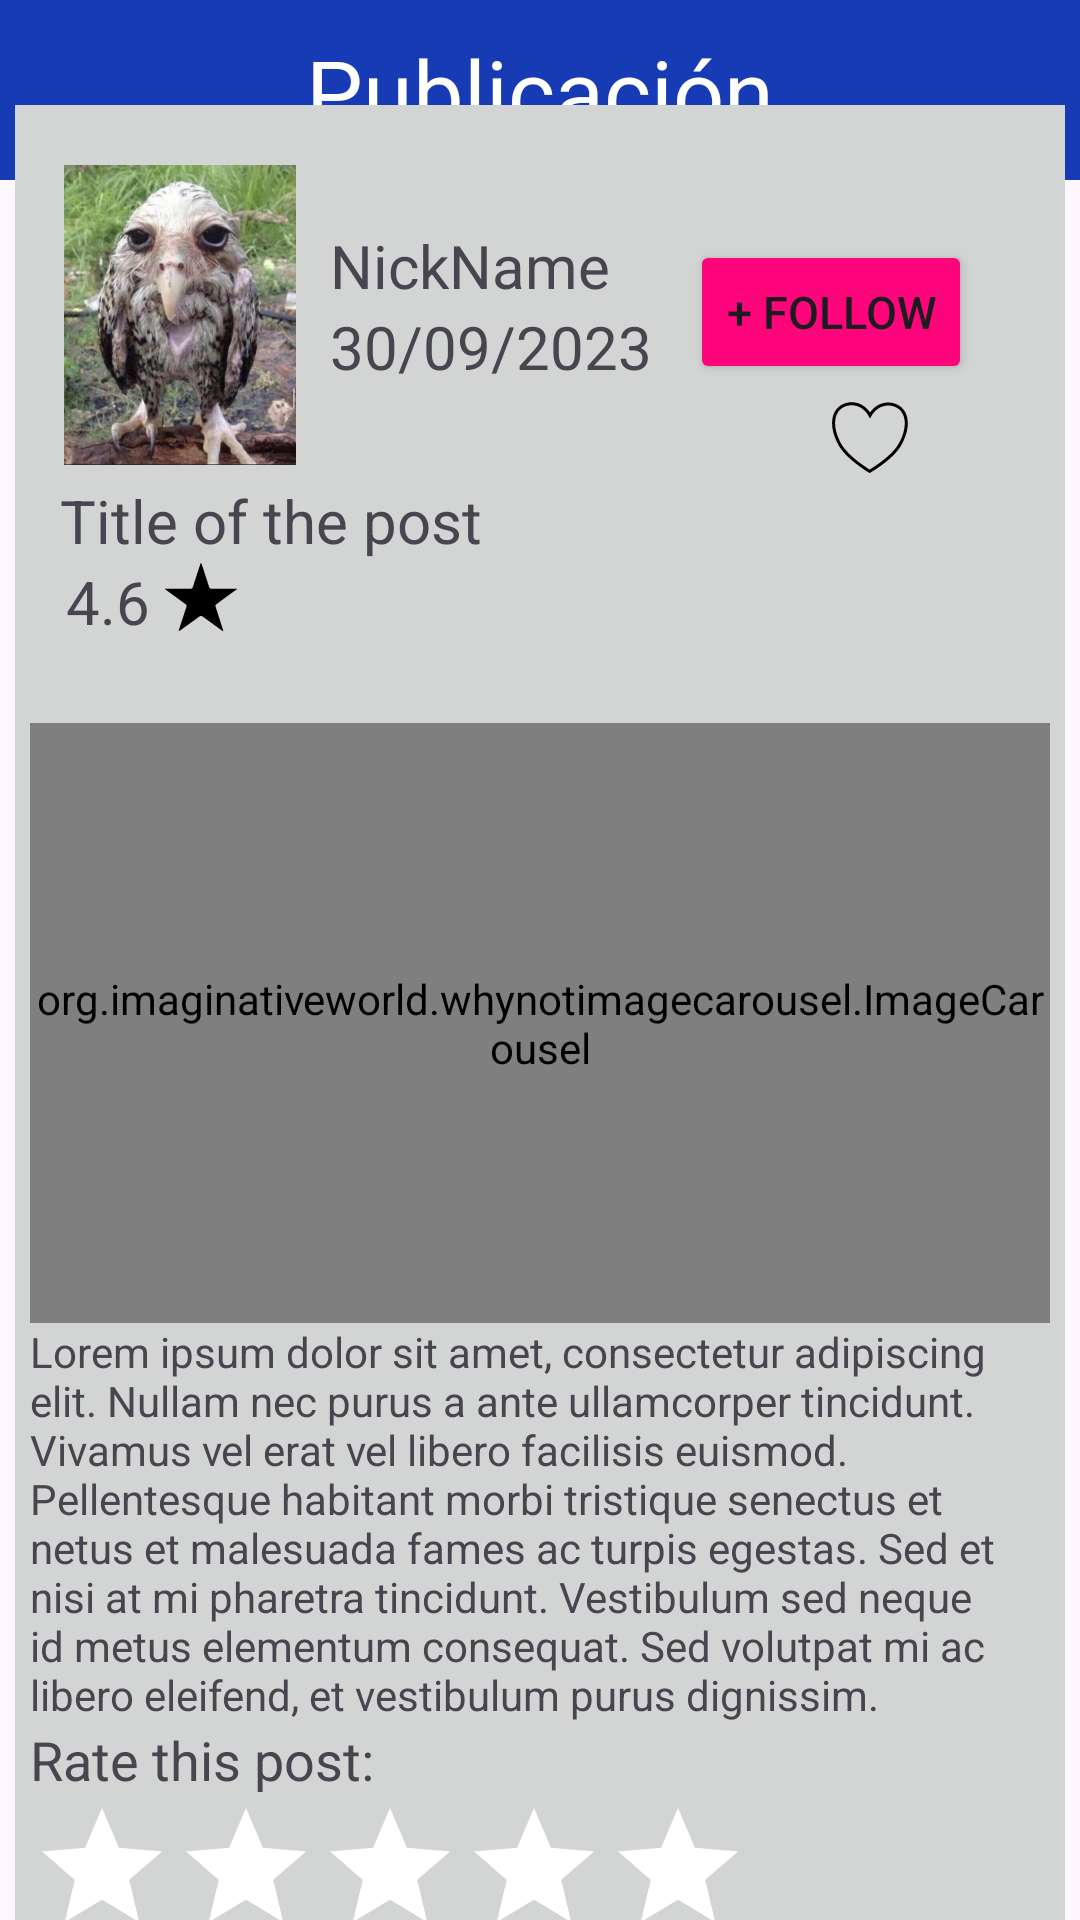

Screen size 1080 x 1920. Icon name, then its box in pixels as BBox(x1, y1, x2, y2):
blankheart: BBox(832, 402, 908, 473)
star: BBox(165, 563, 237, 631)
userpic: BBox(64, 165, 296, 465)
